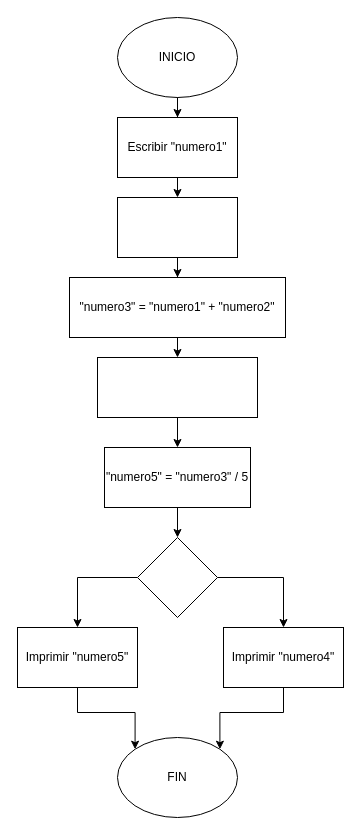
This 361x835 diagram has some shape labels left out. Each missing label, with the centre of its shape:
"numero3" > 100: (x=177, y=577)
"numero4" = "numero3" x 2: (x=177, y=387)
Escribir "numero2": (x=177, y=227)
